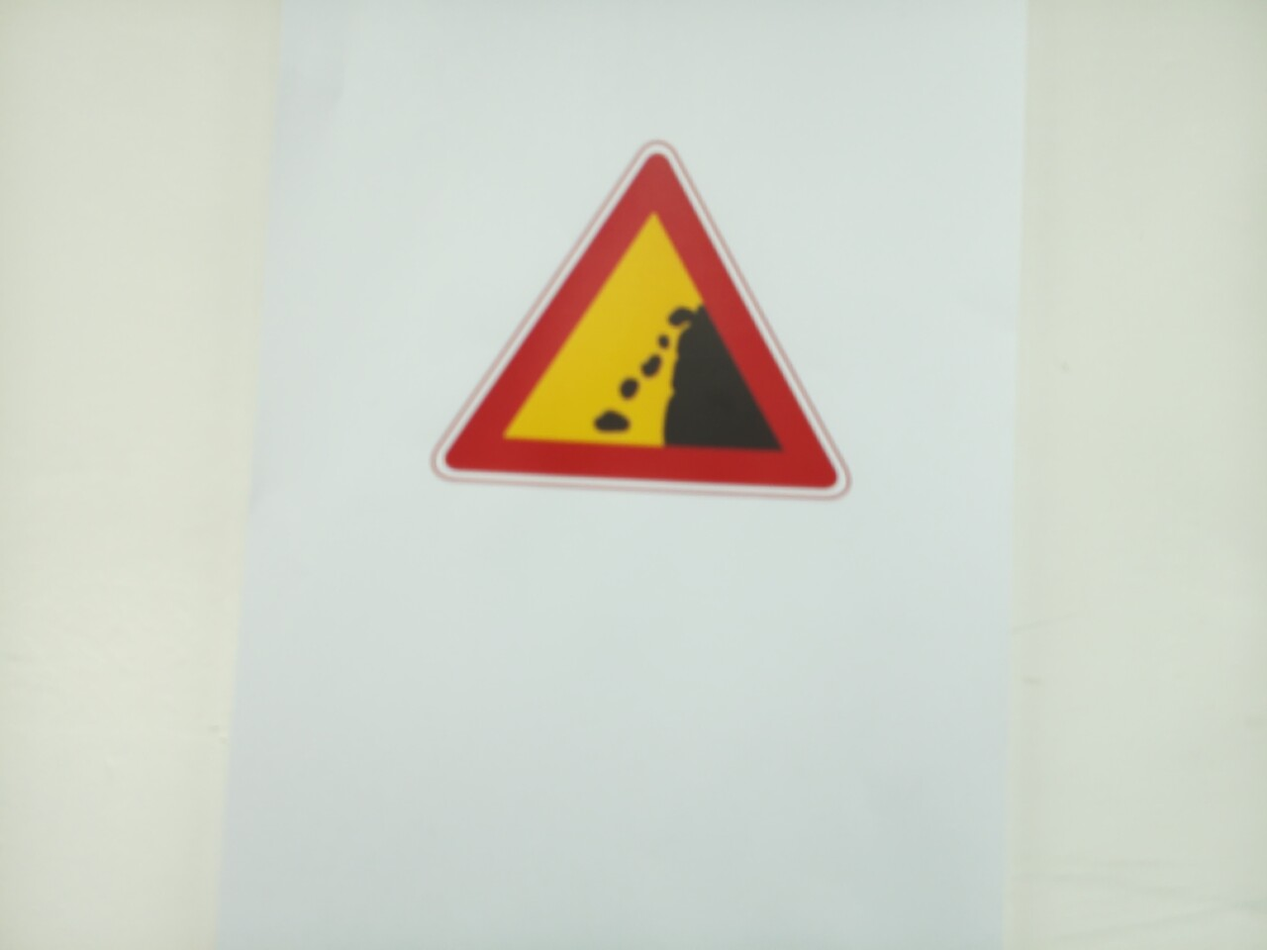falling_rocks: (434, 143, 849, 498)
